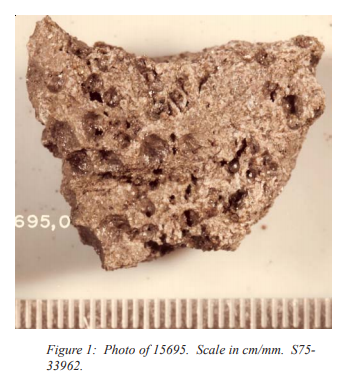Basalt: (18, 21, 328, 265), (102, 72, 247, 214)
